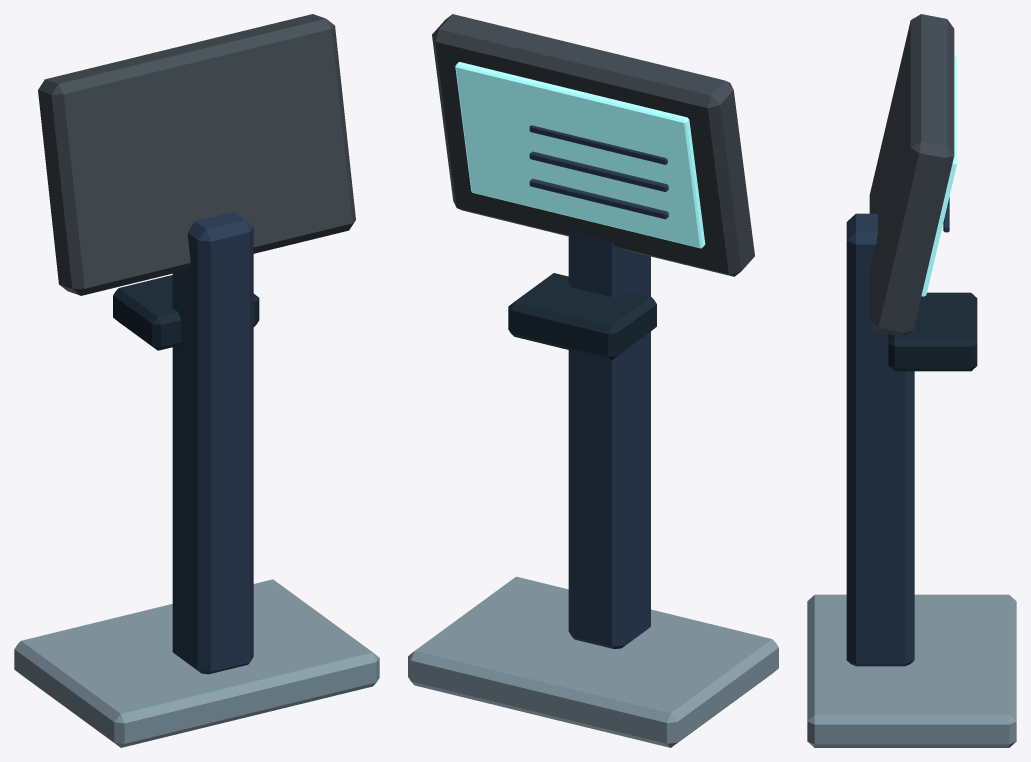
The model's file is relay_service_terminal.glb.
3 views of the same model, side by side, from view 1: azimuth 30°, elevation 25°; view 2: azimuth 150°, elevation 25°; view 3: azimuth 270°, elevation 25° (orthographic). The views are drawn at different scales.
Visible parts, largest first — view 1: display_body, stem, base, scanner_slot; view 2: base, display_body, stem, screen, scanner_slot, display_line (×3); view 3: base, stem, display_body, scanner_slot, screen.
Part boxes in pixels (left/top/right/bottom): display_body: left=38, top=14, right=355, bottom=295; stem: left=172, top=211, right=253, bottom=674; base: left=14, top=579, right=379, bottom=747; scanner_slot: left=113, top=275, right=259, bottom=350; base: left=408, top=576, right=778, bottom=747; display_body: left=432, top=14, right=754, bottom=276; stem: left=568, top=231, right=650, bottom=649; screen: left=455, top=62, right=705, bottom=248; scanner_slot: left=508, top=273, right=656, bottom=360; display_line (×3): left=529, top=125, right=668, bottom=219; base: left=807, top=594, right=1016, bottom=747; stem: left=846, top=213, right=914, bottom=666; display_body: left=869, top=14, right=954, bottom=336; scanner_slot: left=888, top=292, right=977, bottom=371; screen: left=921, top=55, right=956, bottom=296.
Size of the model in its own units: 0.61 by 1.29 by 0.4.
